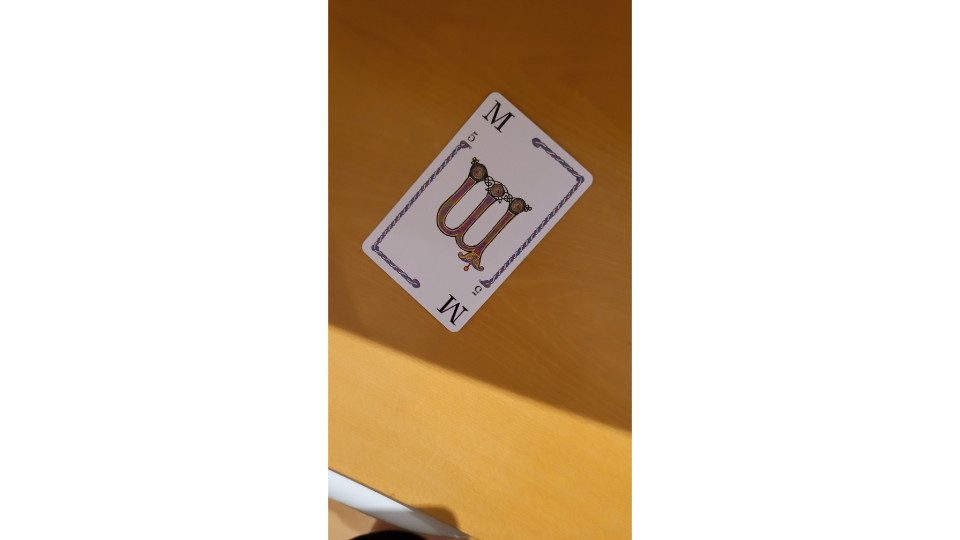M: (360, 90, 596, 335)
